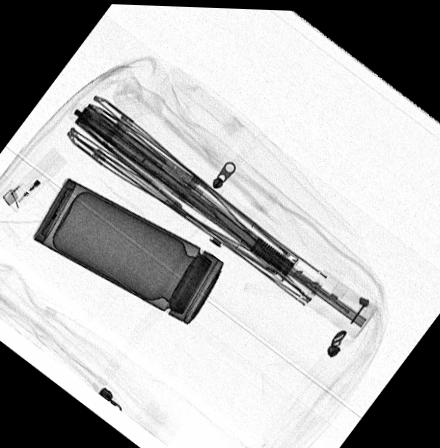Lighter: (1, 146, 66, 213)
